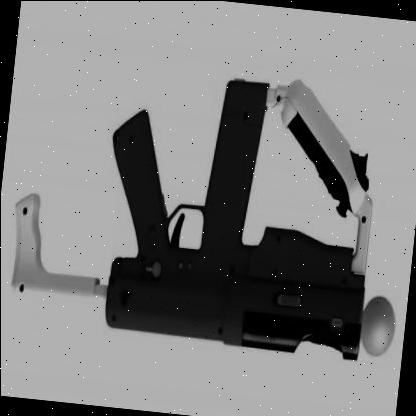rifle: (4, 72, 414, 382)
